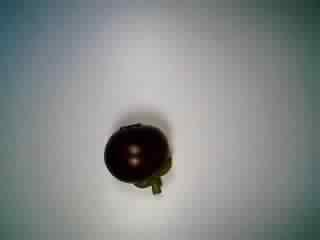mangosteen: (99, 119, 178, 197)
